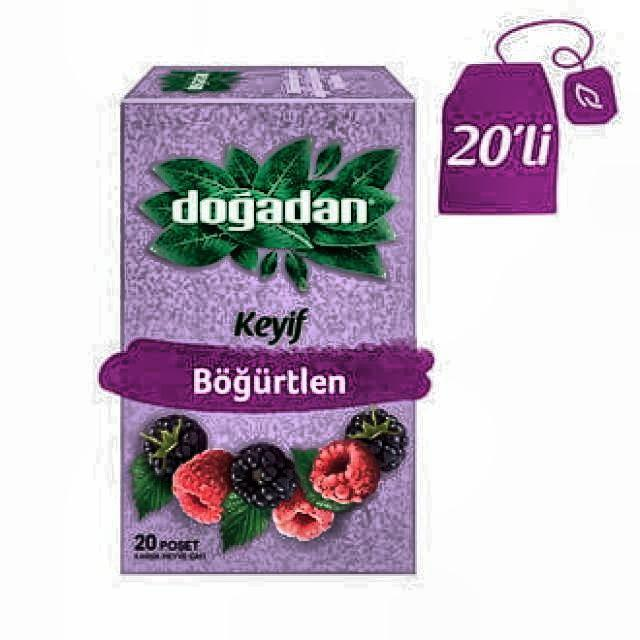cardboard: (97, 64, 435, 578)
